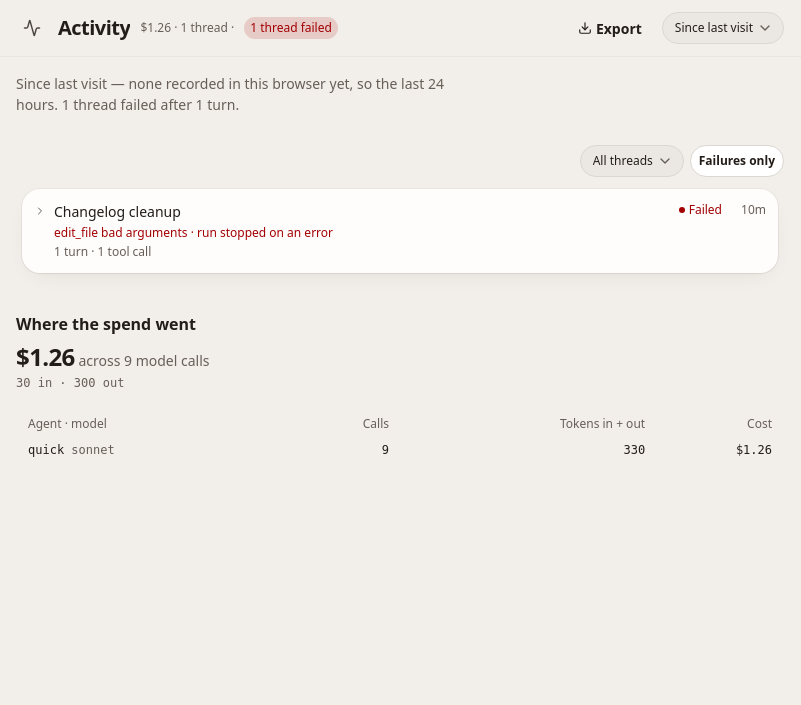
the ledger page › keeps the event row vocabulary: mono tool names, a receding turn frame, the payload
Step 1. Click the button "Changelog cleanup" → (117, 212), box 22,189 -> 778,273
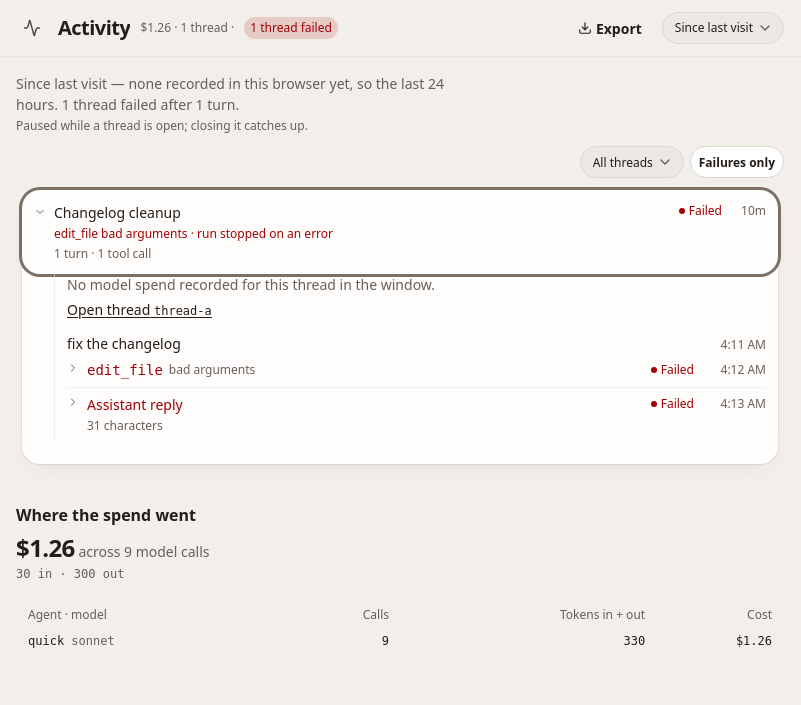
Step 2. Click the button "edit_file bad arguments Failed 4:12 AM" → (125, 370), box 67,354 -> 766,387
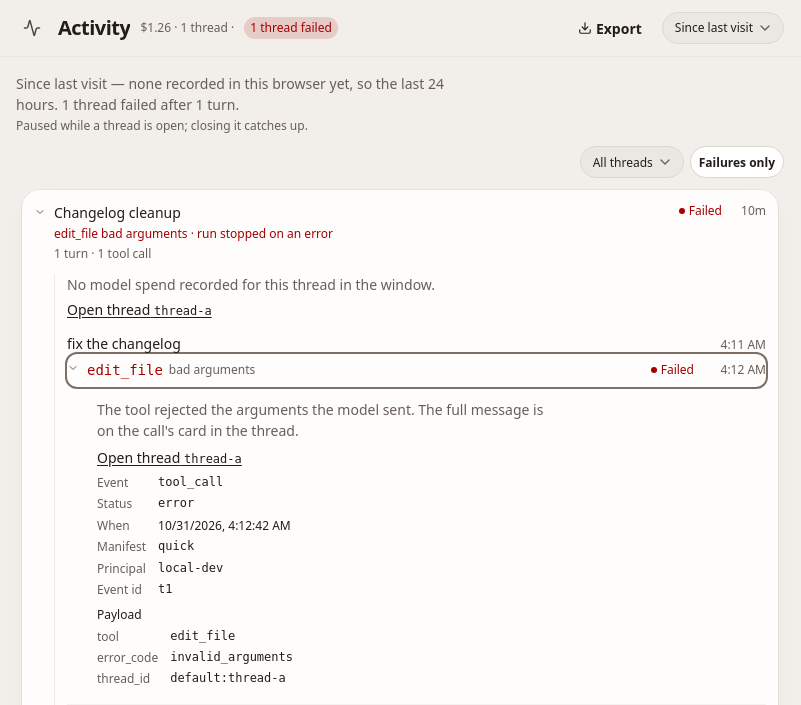
Expected: the text "error_code" is shown, 97,649 -> 158,666
